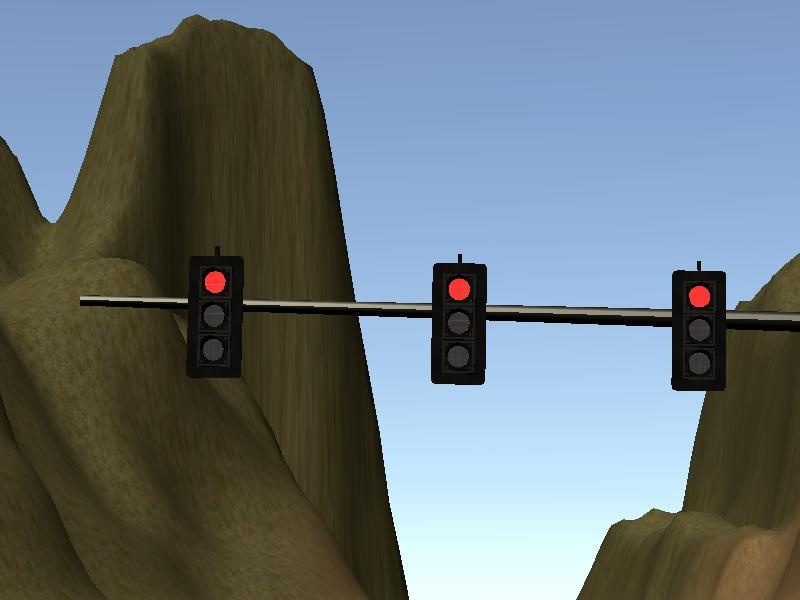red: (428, 263, 488, 387), (184, 254, 244, 378), (668, 272, 728, 396)
